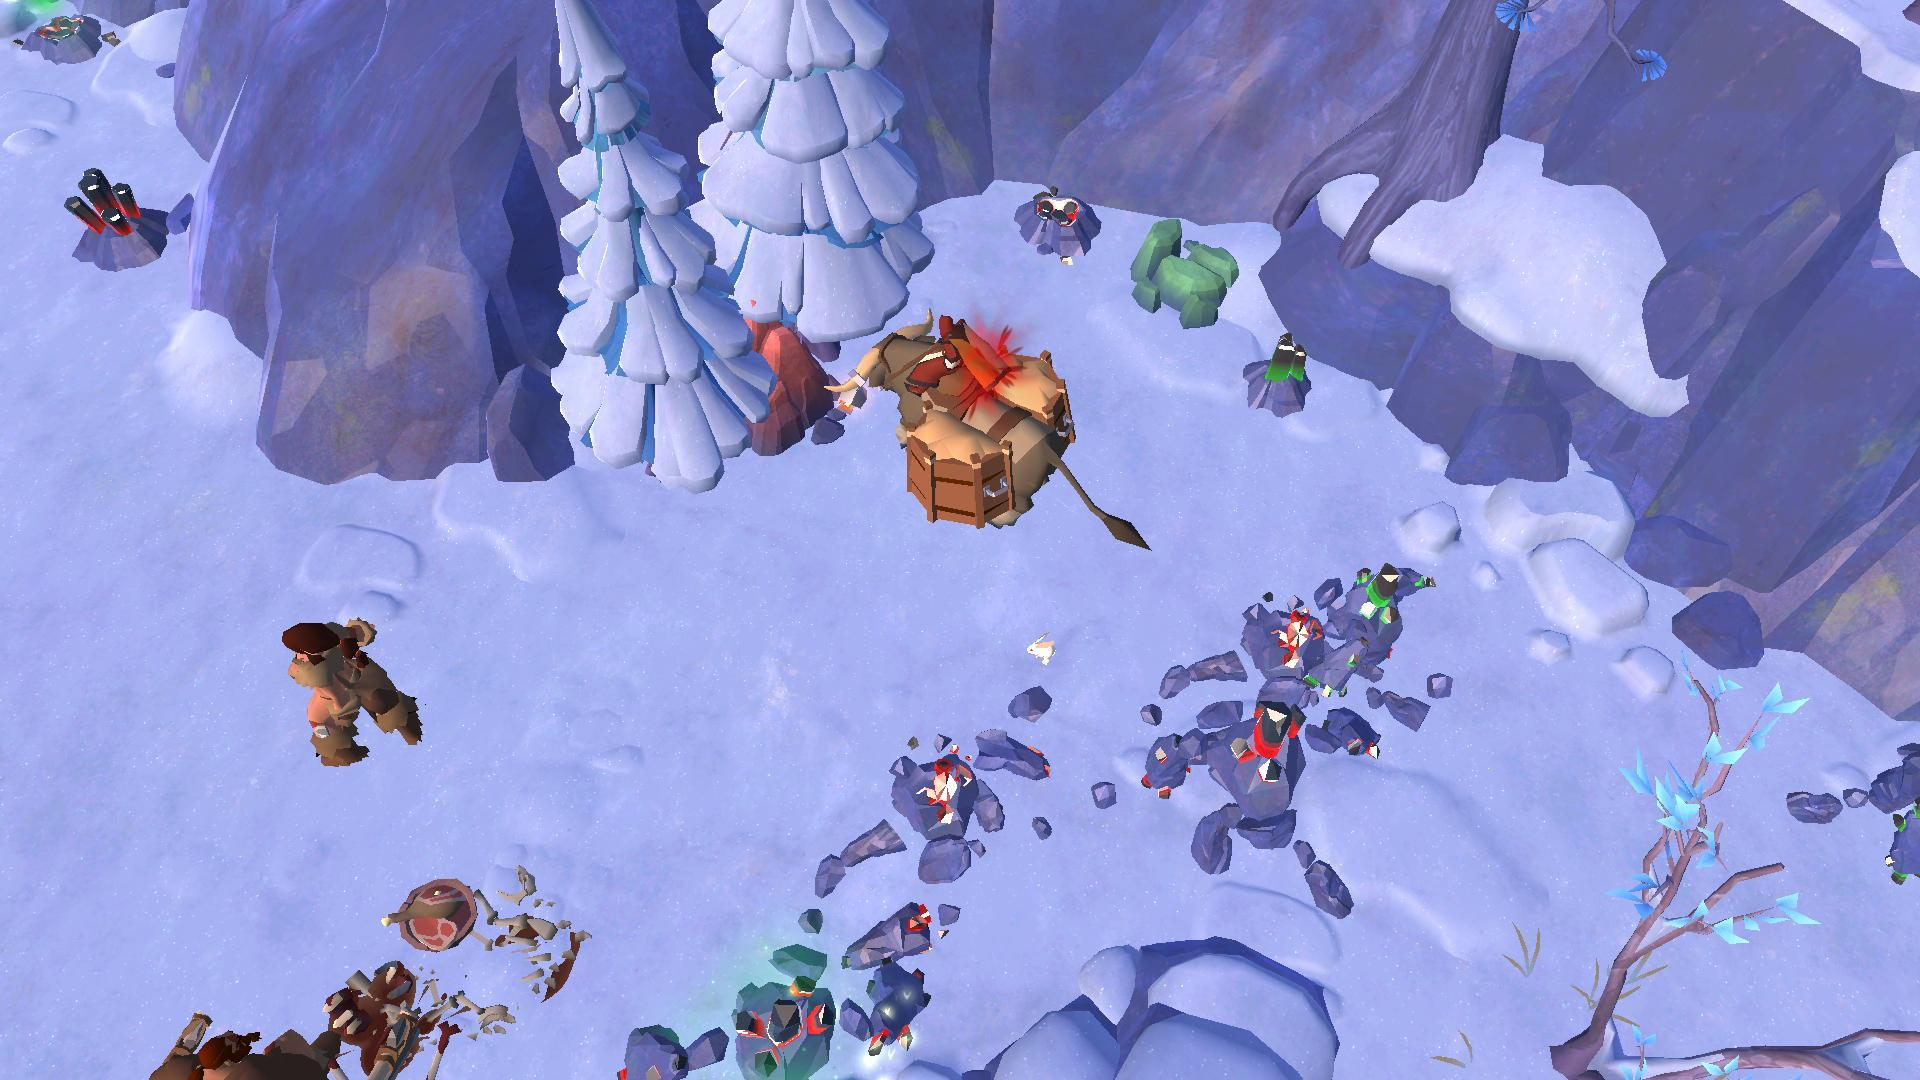enemy_factionKeeper: (276, 609, 427, 773)
ore_t3: (1265, 328, 1321, 392)
ore_t5: (61, 157, 140, 243)
rock_t3: (1108, 220, 1247, 330)
